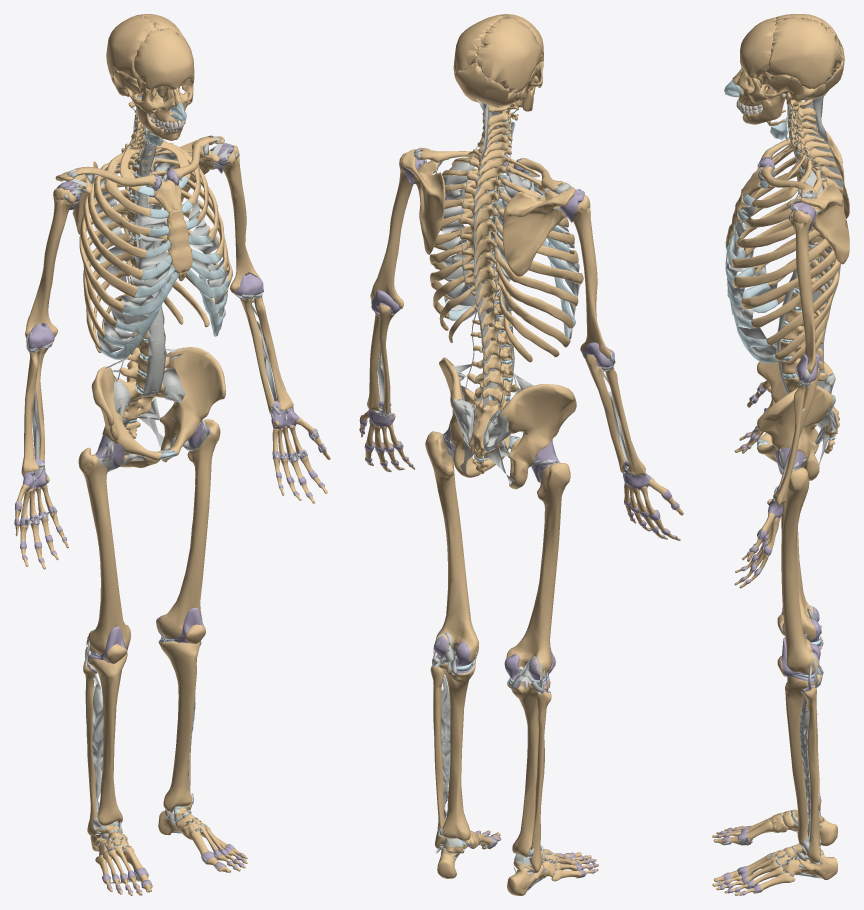
Rendered from skeleton.glb.
The picture shows the model from 3 angles, left to right: view 1: azimuth 30°, elevation 25°; view 2: azimuth 150°, elevation 25°; view 3: azimuth 270°, elevation 25°; orthographic projection. The views are drawn at different scales.
Parts seen in each view (by area): view 1: Object_9, Object_57, Object_4, Object_42; view 2: Object_9, Object_57, Object_4, Object_42; view 3: Object_9, Object_57, Object_4, Object_42.
Boxes of the visible parts, x1,y1,x2,y2 form: Object_9: [15, 14, 330, 895]; Object_57: [16, 108, 325, 886]; Object_4: [14, 143, 326, 893]; Object_42: [19, 95, 313, 889]; Object_9: [360, 14, 683, 895]; Object_57: [361, 99, 673, 891]; Object_4: [359, 154, 679, 878]; Object_42: [375, 89, 628, 877]; Object_9: [712, 14, 849, 895]; Object_57: [718, 90, 843, 893]; Object_4: [717, 157, 822, 895]; Object_42: [724, 79, 827, 876].
Bounding box in the file's own units: 0.6692 × 1.7 × 0.25.
5 materials, 5 textured.
